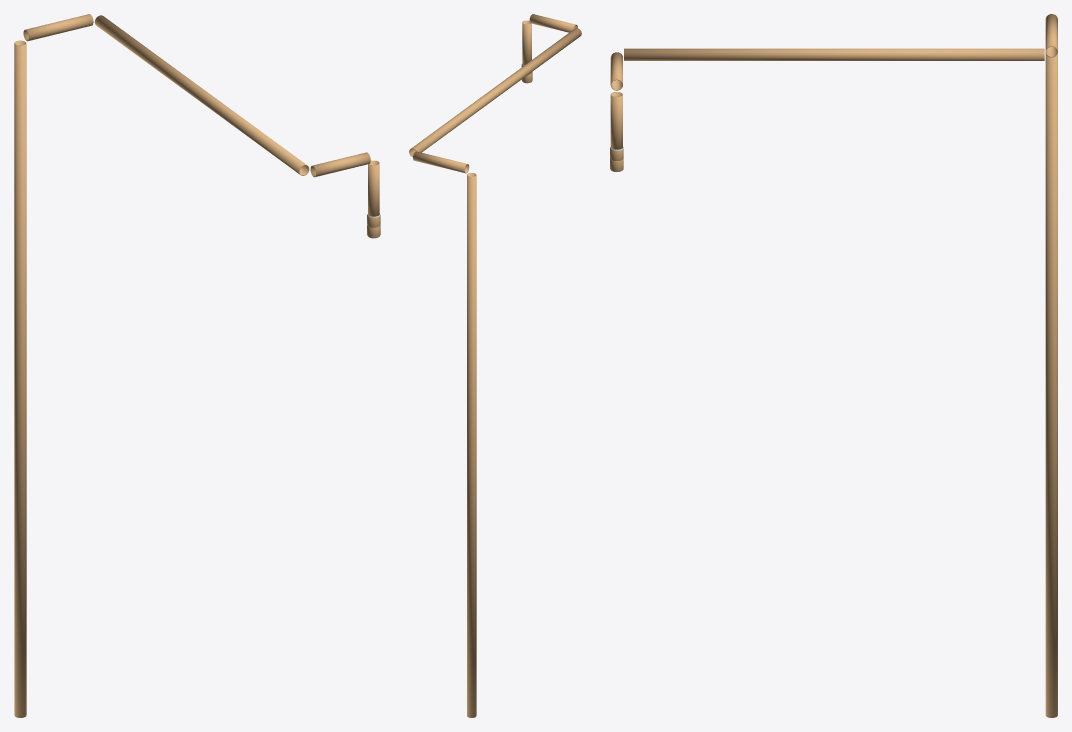
File: slab_pipes_supply__water-city_filter_and_softener-yes_and_plumbing-copper__r4t.glb
The picture shows the model from 3 angles, left to right: view 1: azimuth 30°, elevation 25°; view 2: azimuth 150°, elevation 25°; view 3: azimuth 270°, elevation 25°; orthographic projection. The views are drawn at different scales.
Parts seen in each view (by area): view 1: pipe_supply_to_softener__copper; view 2: pipe_supply_to_softener__copper; view 3: pipe_supply_to_softener__copper.
Part boxes in pixels (bbox=[...]): pipe_supply_to_softener__copper: bbox=[14, 14, 379, 717]; pipe_supply_to_softener__copper: bbox=[409, 14, 581, 717]; pipe_supply_to_softener__copper: bbox=[610, 14, 1057, 717].
Size of the model in its own units: 0.3264 by 1.39 by 0.8025.
